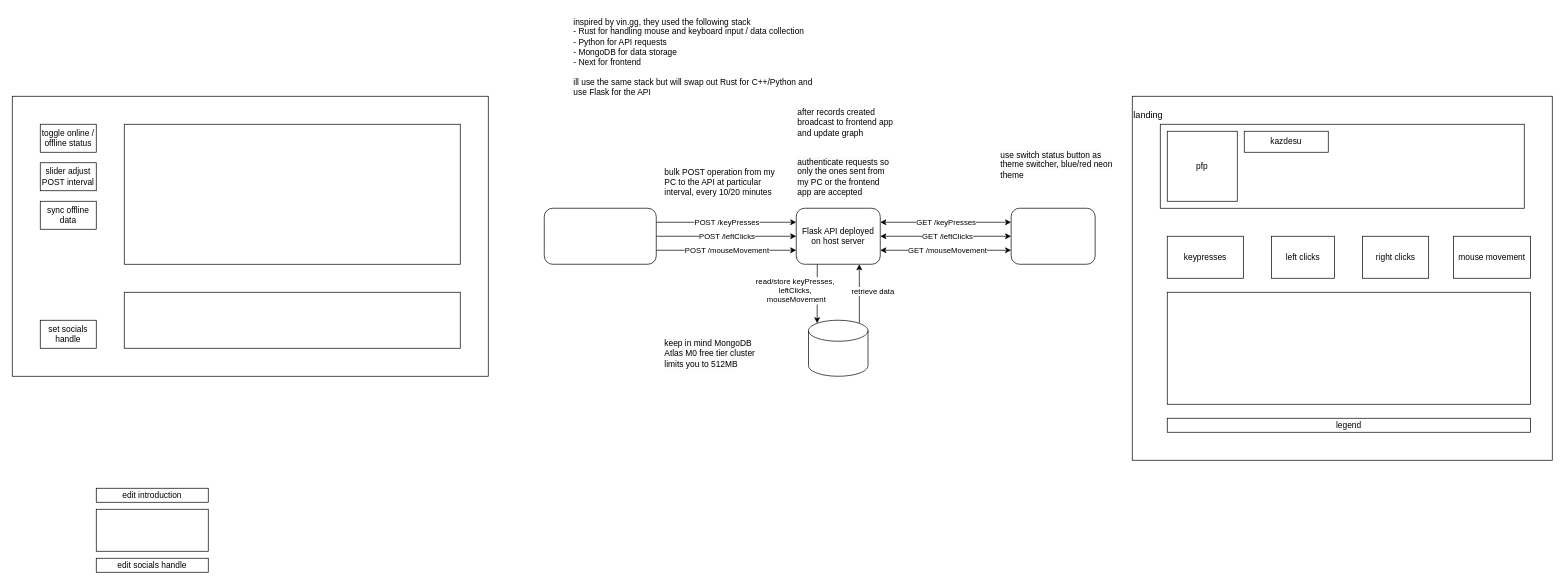
Image size: 1565x585. Some labels were removed from this diagram. Here are the shapes that lost their labels. From the top down, the centre of each, then its label:
point (292, 194): visualization
point (600, 236): C++ code / background process running on my PC, monitoring MnK input
point (1052, 236): NextJS frontend with data visualizations
point (292, 320): data log
point (838, 348): MongoDB
point (1349, 348): data visualization
point (152, 530): edit bio
